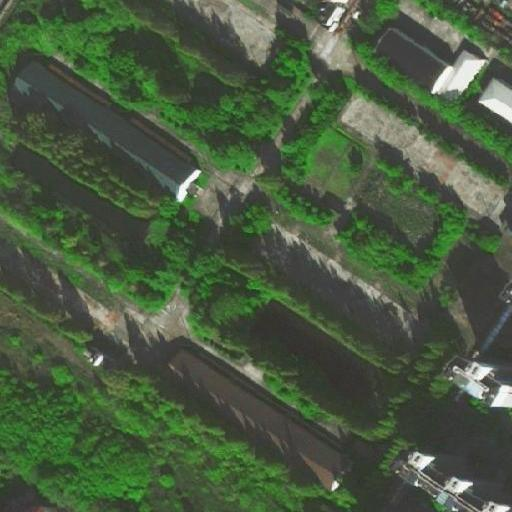building: (15, 55, 210, 205), (174, 352, 352, 494), (335, 90, 498, 217), (389, 448, 511, 511), (374, 28, 453, 93), (439, 353, 511, 411), (437, 50, 490, 102), (480, 76, 512, 133)
